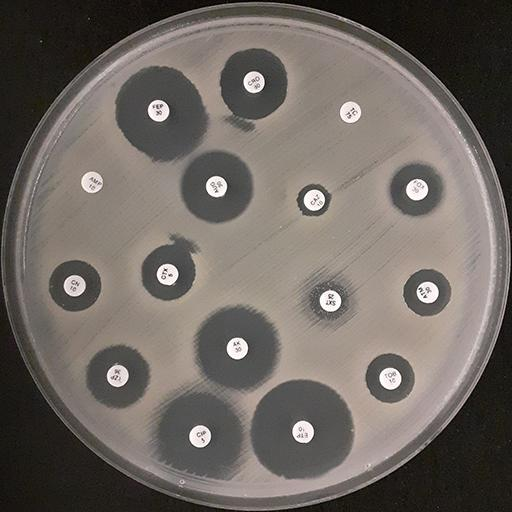disc: (189, 425, 211, 448), (292, 420, 314, 443), (243, 71, 265, 93), (319, 290, 341, 312), (156, 263, 178, 285), (226, 337, 248, 359), (379, 367, 401, 389), (148, 99, 169, 122), (81, 172, 104, 193), (205, 176, 227, 197), (339, 102, 361, 123), (303, 190, 325, 211), (406, 179, 428, 200), (417, 281, 438, 303), (64, 275, 86, 296), (107, 365, 128, 387)
